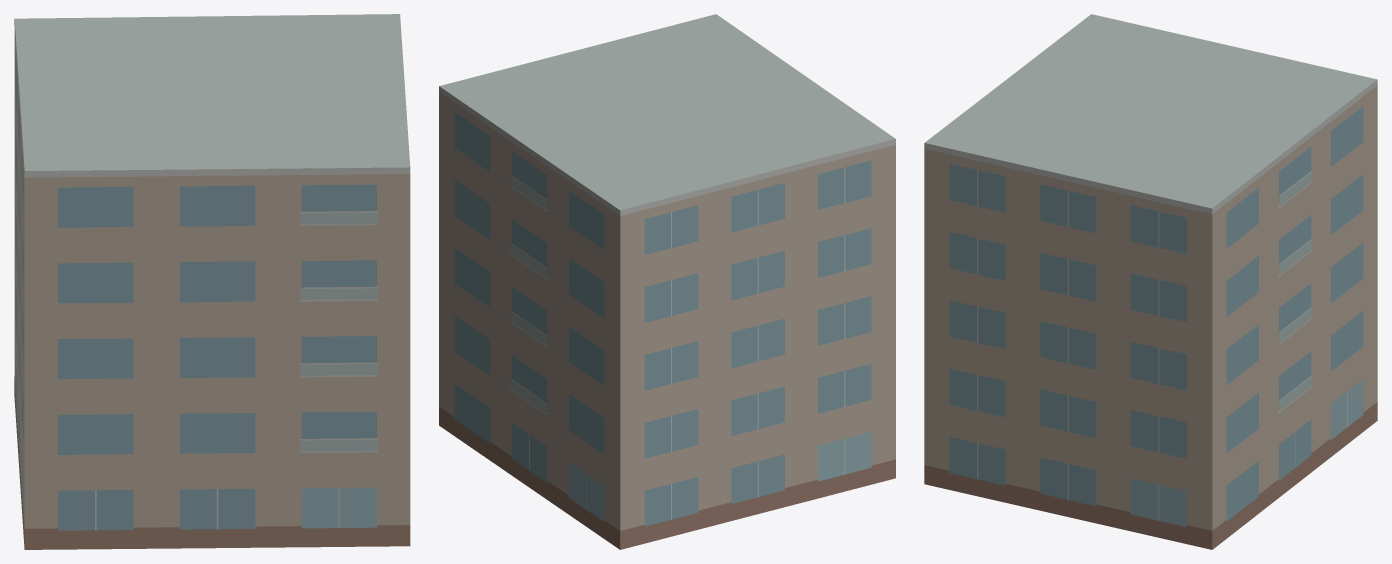
Rendered from survey-upis-32684273.glb.
3 views of the same model, side by side, from view 1: azimuth 30°, elevation 25°; view 2: azimuth 150°, elevation 25°; view 3: azimuth 270°, elevation 25° (orthographic). The views are drawn at different scales.
Visible parts, largest first — view 1: survey-upis-32684273.tmp; view 2: survey-upis-32684273.tmp; view 3: survey-upis-32684273.tmp.
Part boxes in pixels (x1=…): survey-upis-32684273.tmp: x1=14, y1=14, x2=410, y2=549; survey-upis-32684273.tmp: x1=439, y1=14, x2=895, y2=549; survey-upis-32684273.tmp: x1=924, y1=14, x2=1377, y2=549.
Bounding box in the file's own units: 17.49 × 14.3 × 17.21.
